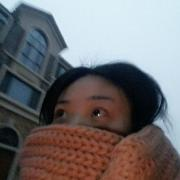OK: (50, 95, 121, 166)
